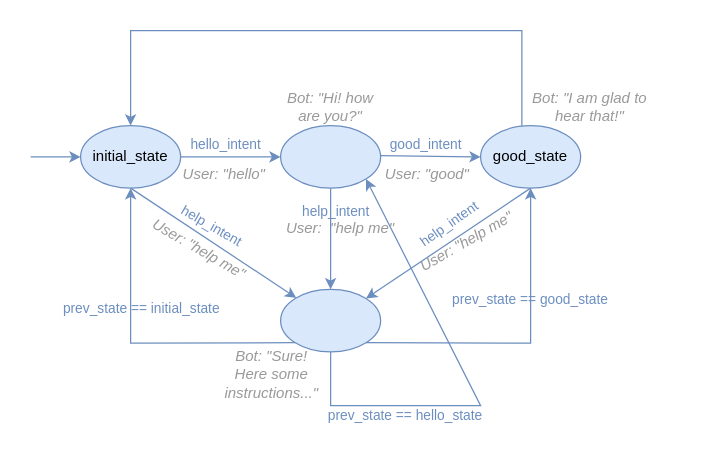
Some shapes in this 709 by 456 pixel diagram are drawn without their labels. The box of each missing label's shape, as (x1, y1, x2, y2) in pixels:
hello_state: (279, 124, 381, 188)
help_state: (279, 288, 381, 352)
